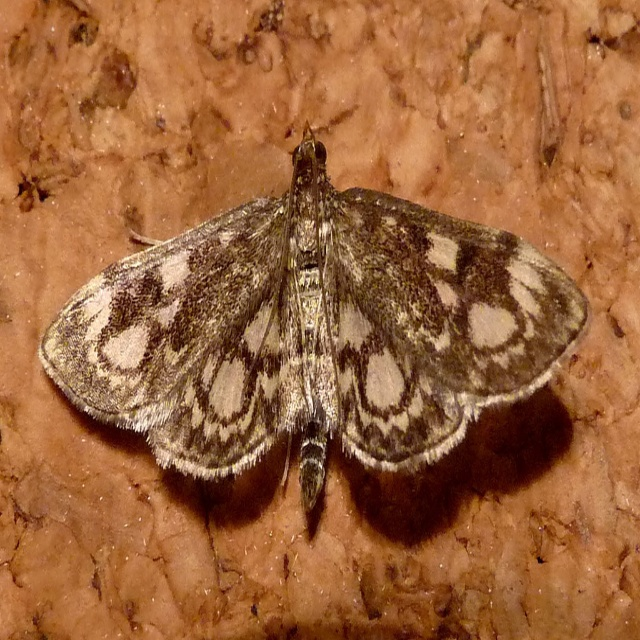Butterfly: (46, 99, 589, 526)
